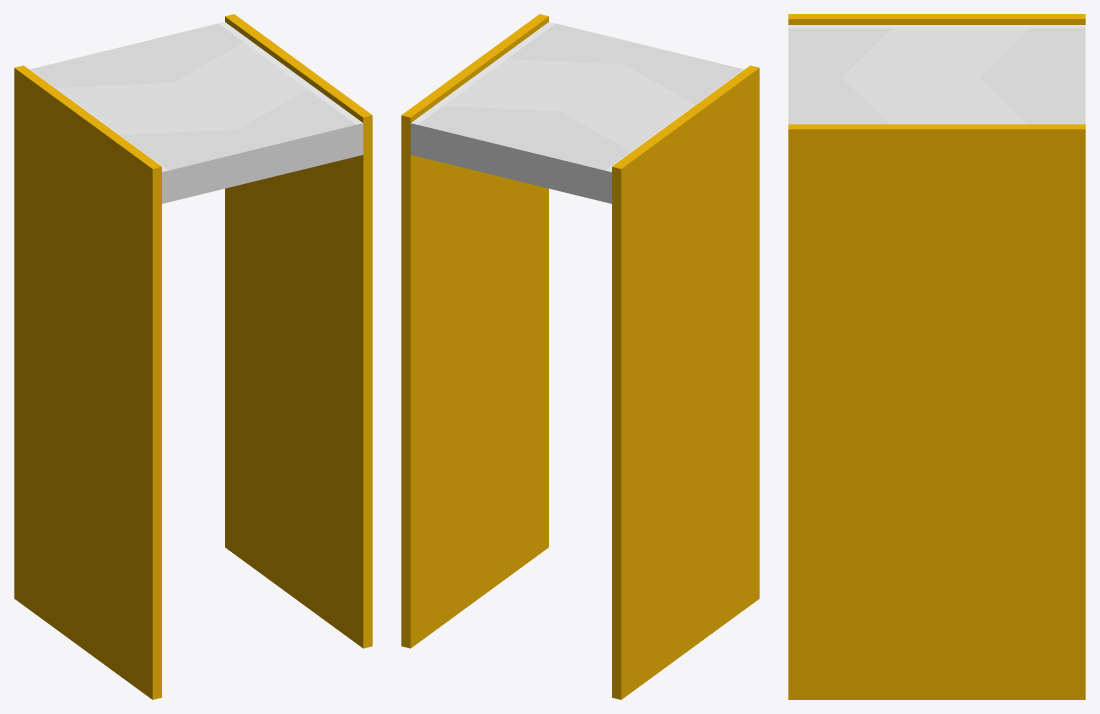
The model's file is Abstract_Path_1.fbx.
The picture shows the model from 3 angles, left to right: view 1: azimuth 30°, elevation 25°; view 2: azimuth 150°, elevation 25°; view 3: azimuth 270°, elevation 25°; orthographic projection. The views are drawn at different scales.
Visible parts, largest first — view 1: polySurface2, polySurface1; view 2: polySurface2, polySurface1; view 3: polySurface2, polySurface1.
Part boxes in pixels (box(x1,y1,x2,y2)): polySurface2: box(14, 14, 372, 699); polySurface1: box(29, 22, 363, 203); polySurface2: box(401, 14, 759, 699); polySurface1: box(410, 22, 744, 203); polySurface2: box(788, 14, 1085, 699); polySurface1: box(788, 25, 1085, 124).
Bounding box in the file's own units: 200 × 462 × 218.
Materials: 2 (2 with a texture image).
